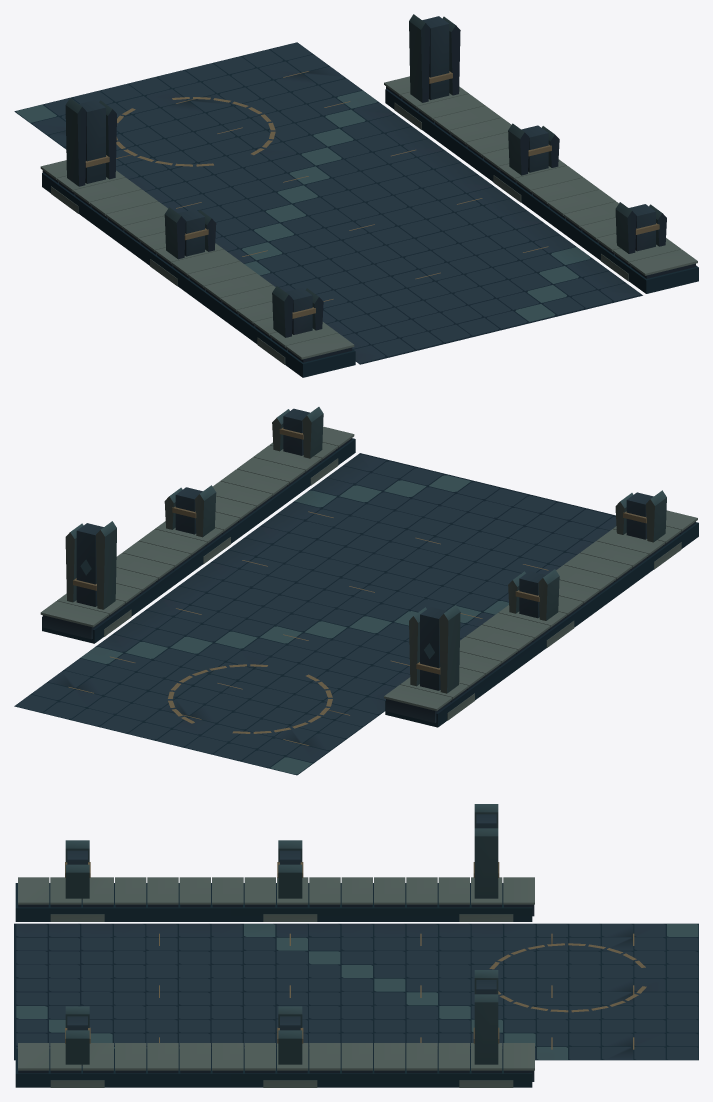
The model's file is moonveil-vault-threshold-v1.glb.
The picture shows the model from 3 angles, top to bottom: view 1: azimuth 30°, elevation 25°; view 2: azimuth 150°, elevation 25°; view 3: azimuth 270°, elevation 25°; orthographic projection.
Visible parts, largest first — view 1: GB_VAULT_FLOOR, GB_VAULT_WEST, GB_VAULT_EAST; view 2: GB_VAULT_FLOOR, GB_VAULT_EAST, GB_VAULT_WEST; view 3: GB_VAULT_FLOOR, GB_VAULT_EAST, GB_VAULT_WEST.
Boxes of the visible parts, x1,y1,x2,y2 form: GB_VAULT_FLOOR: (14,42,642,364); GB_VAULT_WEST: (40,98,355,377); GB_VAULT_EAST: (384,14,698,293); GB_VAULT_FLOOR: (14,453,616,775); GB_VAULT_EAST: (40,407,355,643); GB_VAULT_WEST: (384,490,698,727); GB_VAULT_FLOOR: (14,923,698,1060); GB_VAULT_EAST: (15,970,534,1087); GB_VAULT_WEST: (15,804,534,921).
Bounding box in the file's own units: 27.74 × 6.6 × 41.9.
